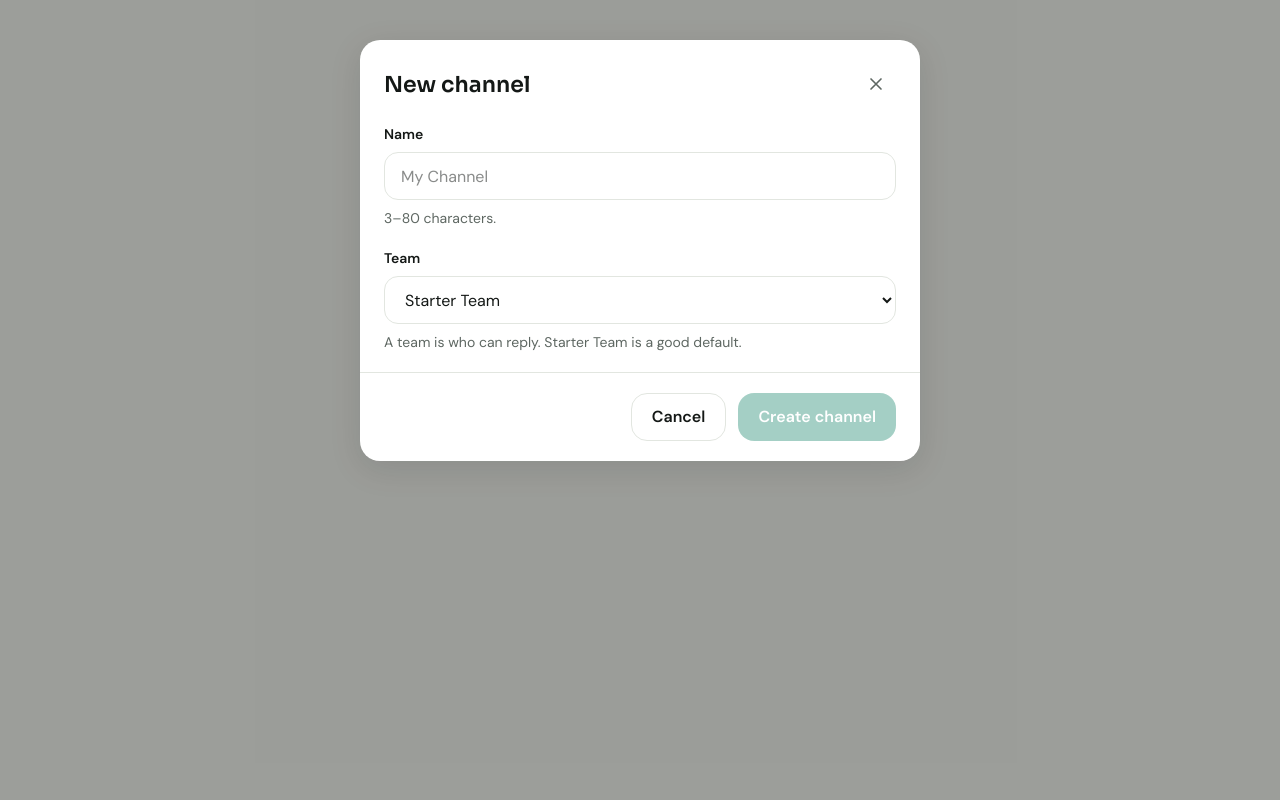
NewChannelSheet.svelte › shows the server sentence when the name is already taken
Expected: the dropdown labelled "Team" shows "Starter Team", [384,276,896,324]
Step 1. Type "general" into the field labelled "Name" → coordinates (640, 176), box [384,152,896,200]
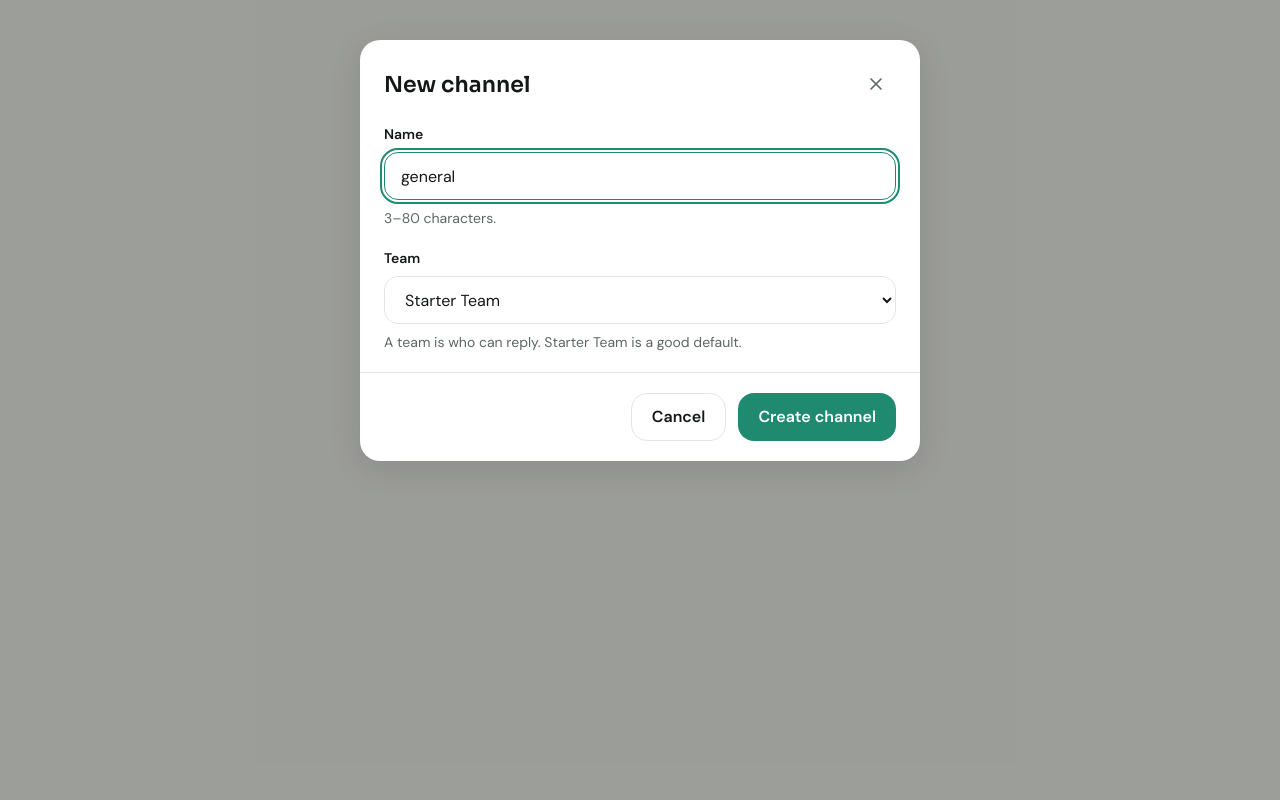
Step 2. Click the button "Create channel" → coordinates (817, 417), box [738,393,896,441]
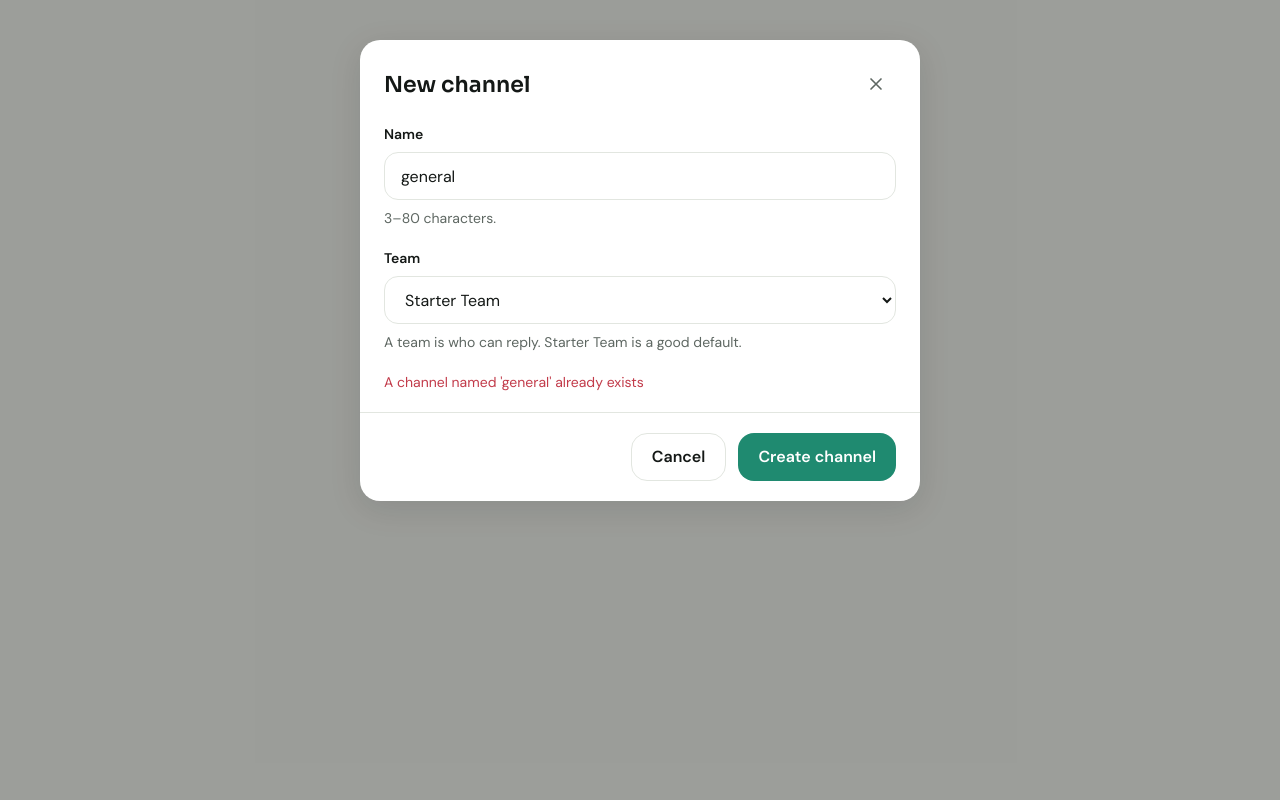
Result: the text "A channel named 'general' already exists" is shown at [384,373,644,391]
